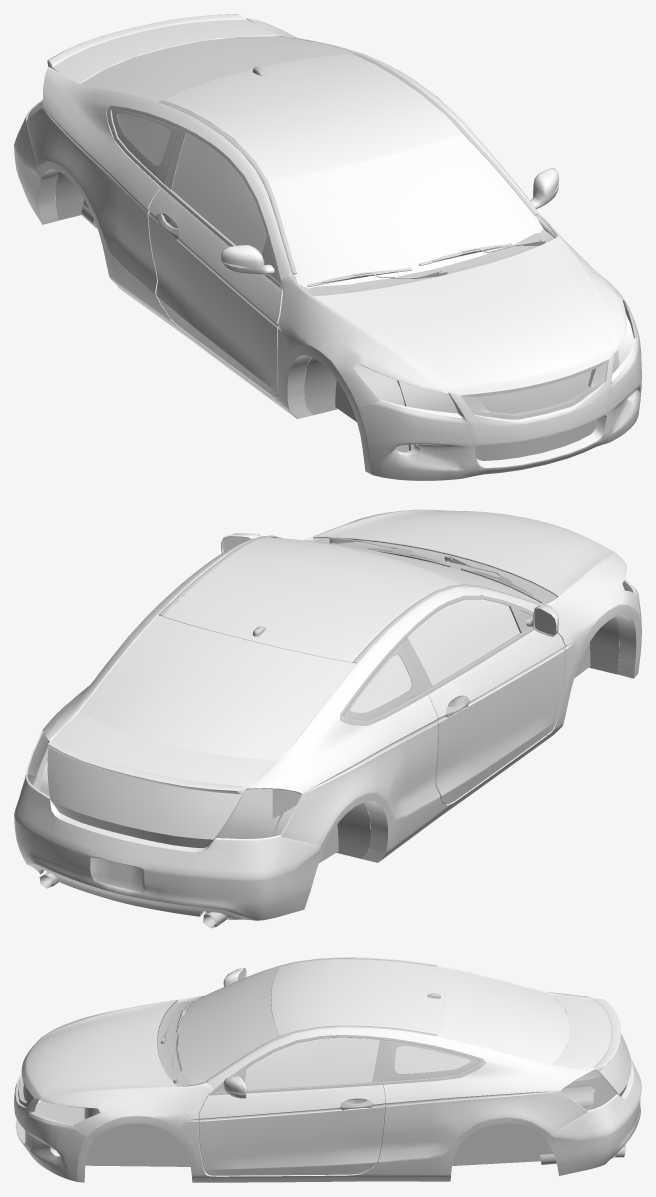
Rendered from sedan_modern.glb.
3 renders of one model, top to bottom at view 1: azimuth 30°, elevation 25°; view 2: azimuth 150°, elevation 25°; view 3: azimuth 270°, elevation 25°, orthographic. The views are drawn at different scales.
Visible parts, largest first — view 1: Body, Glass; view 2: Body, Glass; view 3: Body, Glass.
Part boxes in pixels (x1=…): Body: x1=14, y1=14, x2=641, y2=480; Glass: x1=81, y1=36, x2=542, y2=288; Body: x1=14, y1=509, x2=641, y2=928; Glass: x1=79, y1=538, x2=542, y2=760; Body: x1=14, y1=957, x2=641, y2=1182; Glass: x1=173, y1=966, x2=569, y2=1089.
Size of what is drawn, in the model's own units: 2.18 by 1.26 by 4.87.
4 materials, 1 textured.
